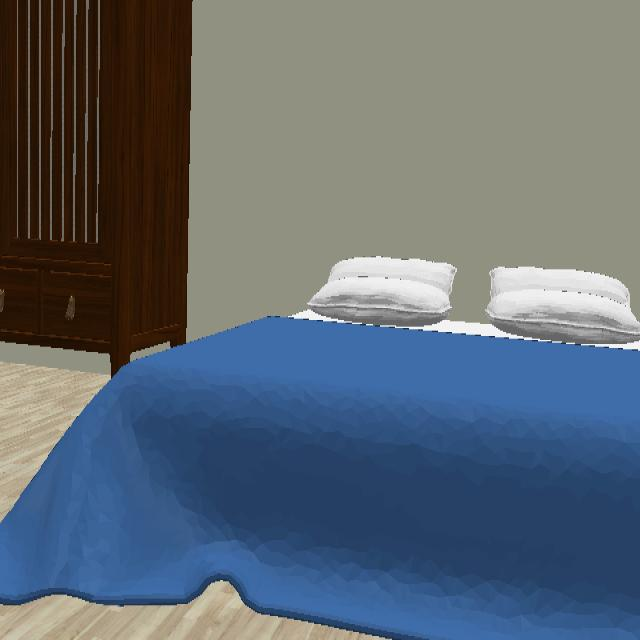bed: (0, 317, 640, 640)
pillow: (485, 267, 640, 347), (290, 257, 458, 328)
